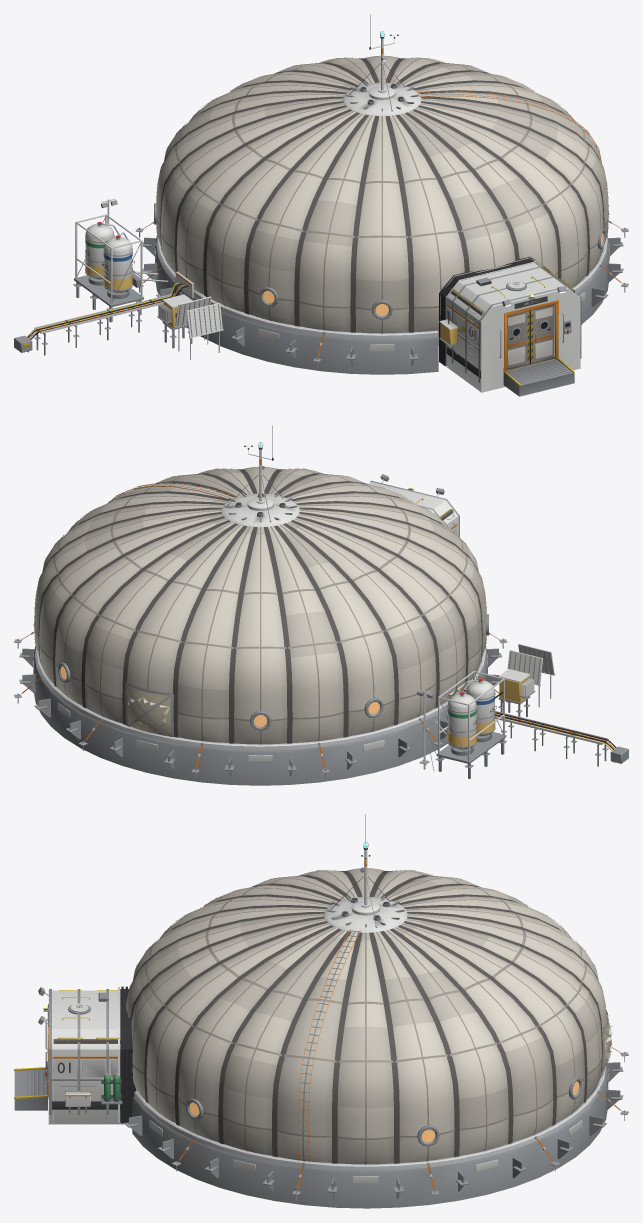
Rendered from hab.glb.
The picture shows the model from 3 angles, top to bottom: view 1: azimuth 30°, elevation 25°; view 2: azimuth 150°, elevation 25°; view 3: azimuth 270°, elevation 25°; orthographic projection. The views are drawn at different scales.
Parts seen in each view (by area): view 1: hab_mesh, door_outer_R_mesh, door_outer_L_mesh; view 2: hab_mesh, breach_patch_mesh; view 3: hab_mesh.
Boxes of the visible parts, x1,y1,x2,y2 form: hab_mesh: [14, 14, 628, 396]; door_outer_R_mesh: [530, 304, 554, 364]; door_outer_L_mesh: [507, 310, 530, 370]; hab_mesh: [14, 425, 628, 785]; breach_patch_mesh: [125, 682, 174, 737]; hab_mesh: [14, 814, 628, 1208].
Bounding box in the file's own units: 26.16 × 11.56 × 22.58.
